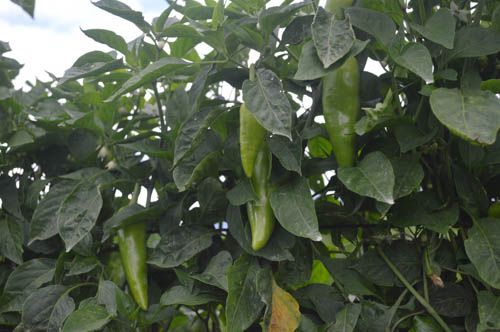ChiliPepper: (323, 58, 360, 172), (242, 149, 276, 254), (114, 216, 147, 313), (237, 103, 265, 181)
